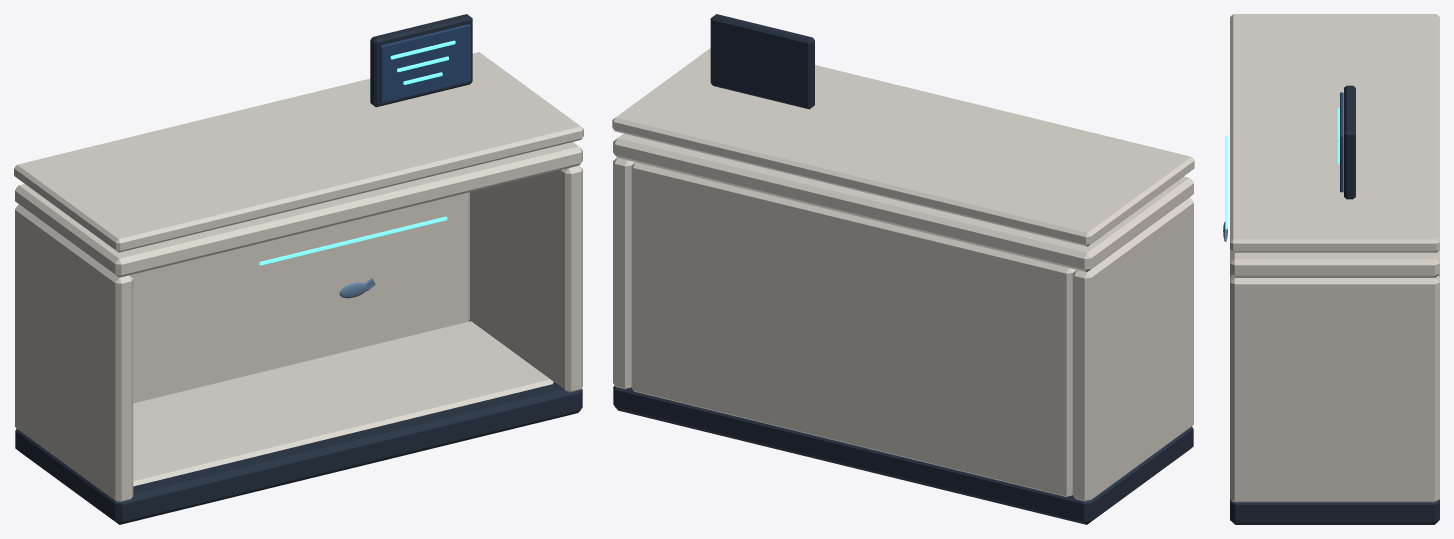
The model's file is public_01.glb.
3 renders of one model, left to right at view 1: azimuth 30°, elevation 25°; view 2: azimuth 150°, elevation 25°; view 3: azimuth 270°, elevation 25°, orthographic. The views are drawn at different scales.
Visible parts, largest first — view 1: InformationCounter, Side (×2), Back, Bottom, Base, Top, Screen, MonitorFrame, StatusLight; view 2: Back, InformationCounter, Side (×2), Top, Base, MonitorFrame; view 3: InformationCounter, Side, Top, Base, MonitorFrame, Screen, StatusLight.
Part boxes in pixels (bbox=[...]): InformationCounter: bbox=[14, 52, 583, 252]; Side (×2): bbox=[15, 165, 582, 502]; Back: bbox=[129, 192, 469, 403]; Bottom: bbox=[133, 321, 553, 486]; Base: bbox=[15, 320, 582, 524]; Top: bbox=[15, 142, 582, 277]; Screen: bbox=[380, 24, 470, 103]; MonitorFrame: bbox=[370, 14, 472, 107]; StatusLight: bbox=[259, 216, 447, 265]; Back: bbox=[631, 162, 1076, 497]; InformationCounter: bbox=[612, 48, 1194, 246]; Side (×2): bbox=[613, 157, 1193, 501]; Top: bbox=[613, 133, 1193, 272]; Base: bbox=[613, 386, 1193, 524]; MonitorFrame: bbox=[710, 14, 814, 109]; InformationCounter: bbox=[1230, 14, 1439, 252]; Side: bbox=[1230, 276, 1439, 502]; Top: bbox=[1230, 250, 1439, 277]; Base: bbox=[1230, 499, 1439, 524]; MonitorFrame: bbox=[1344, 85, 1355, 199]; Screen: bbox=[1340, 92, 1343, 192]; StatusLight: bbox=[1225, 135, 1227, 229].
Bounding box in the file's own units: 1.8 × 1.36 × 0.723.
